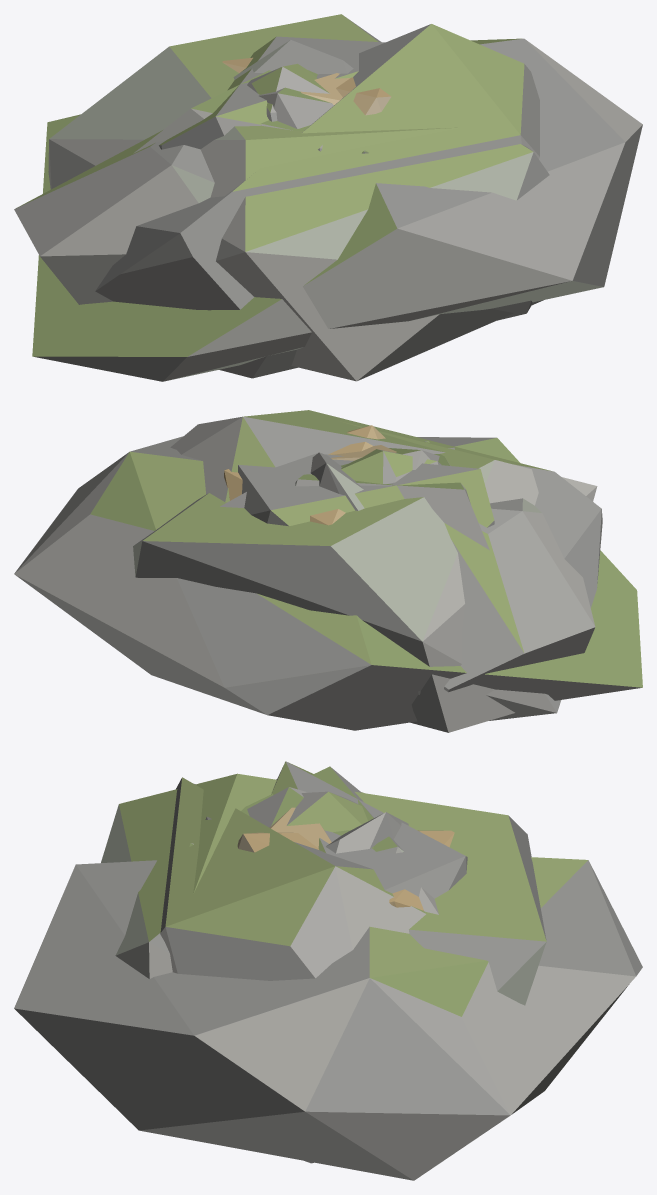
Rendered from rocks.glb.
The picture shows the model from 3 angles, top to bottom: view 1: azimuth 30°, elevation 25°; view 2: azimuth 150°, elevation 25°; view 3: azimuth 270°, elevation 25°; orthographic projection. The views are drawn at different scales.
Parts seen in each view (by area): view 1: BigBoulder3, BigBoulder0, BigBoulder1, BigBoulder2, Boulder7, Boulder4, Boulder5, Boulder3, Boulder2, Pebble0, Pebble1; view 2: BigBoulder3, BigBoulder0, BigBoulder2, BigBoulder1, Boulder7, Boulder2, Boulder3, Boulder4, Pebble0, Boulder5; view 3: BigBoulder3, BigBoulder1, BigBoulder0, Boulder7, Boulder3, Pebble0, Boulder4, Boulder5, Boulder2, Pebble1.
Part boxes in pixels (<box>): BigBoulder3: <box>32,38,642,381</box>; BigBoulder0: <box>48,14,549,381</box>; BigBoulder1: <box>95,24,539,378</box>; BigBoulder2: <box>14,130,214,304</box>; Boulder7: <box>159,36,385,149</box>; Boulder4: <box>233,40,353,79</box>; Boulder5: <box>258,70,333,128</box>; Boulder3: <box>247,63,329,121</box>; Boulder2: <box>133,70,310,153</box>; Pebble0: <box>222,57,391,115</box>; Pebble1: <box>301,73,349,104</box>; BigBoulder3: <box>14,436,642,730</box>; BigBoulder0: <box>133,421,597,732</box>; BigBoulder2: <box>444,498,595,692</box>; BigBoulder1: <box>170,410,602,720</box>; Boulder7: <box>238,453,494,527</box>; Boulder2: <box>295,454,489,550</box>; Boulder3: <box>341,449,441,483</box>; Boulder4: <box>310,452,364,510</box>; Pebble0: <box>224,425,385,525</box>; Boulder5: <box>220,448,439,507</box>; BigBoulder3: <box>14,857,642,1180</box>; BigBoulder1: <box>160,777,425,1163</box>; BigBoulder0: <box>101,773,546,1005</box>; Boulder7: <box>271,761,467,898</box>; Boulder3: <box>286,791,367,832</box>; Pebble0: <box>237,830,454,910</box>; Boulder4: <box>326,812,408,853</box>; Boulder5: <box>247,787,438,914</box>; Boulder2: <box>241,766,403,853</box>; Pebble1: <box>269,807,331,848</box>.
Size of the model in its own units: 4.6 by 1.64 by 3.87.
